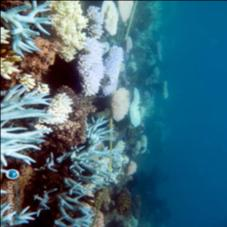bleached_corals: (0, 100, 153, 227), (0, 0, 128, 120), (0, 73, 74, 166)
